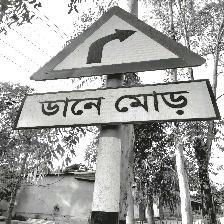Right-turn: (17, 4, 217, 129)
